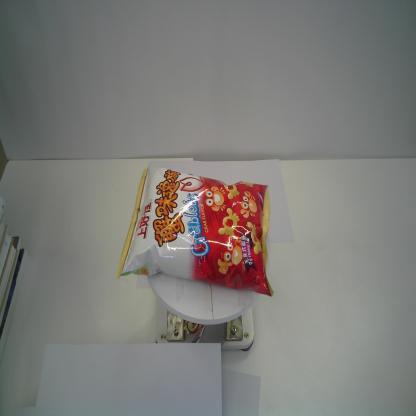Puffed Food: (116, 165, 274, 298)
